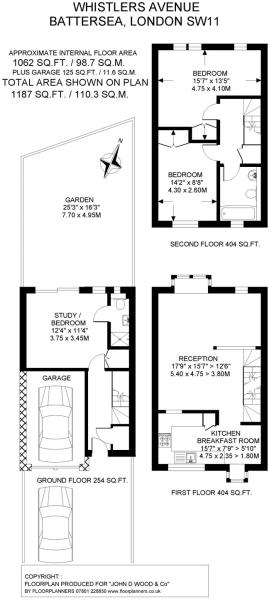GardenMeasurements: (11, 110, 142, 298)
GrossArea: (7, 44, 146, 68)
